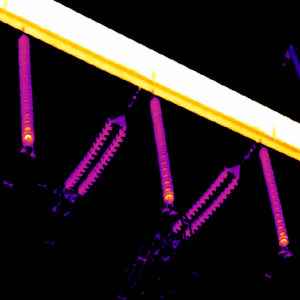insulator: (62, 120, 127, 195), (170, 167, 238, 236), (258, 143, 287, 247), (147, 94, 174, 205), (16, 33, 34, 148)
